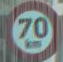Speed limit: (7, 3, 55, 54)
